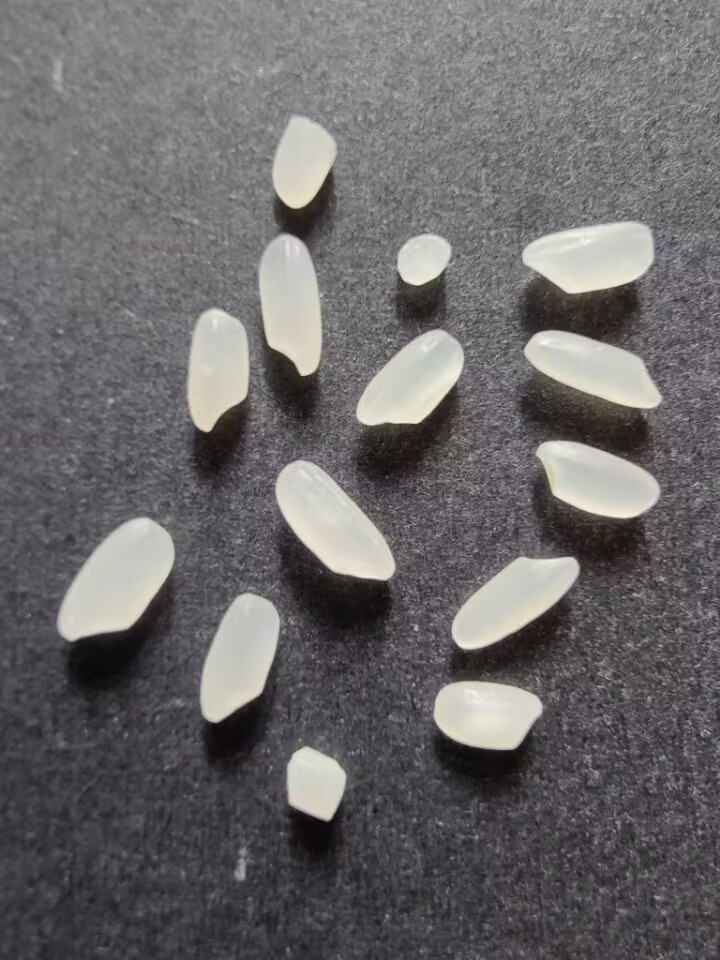broken: (267, 112, 341, 213), (277, 743, 351, 825), (394, 230, 457, 291)
rice: (52, 515, 180, 647), (272, 459, 400, 584), (448, 554, 582, 654), (349, 324, 467, 430), (195, 591, 284, 727), (520, 329, 666, 411), (532, 436, 664, 526), (516, 220, 659, 297), (253, 232, 327, 379), (428, 677, 547, 755), (181, 304, 251, 433)
